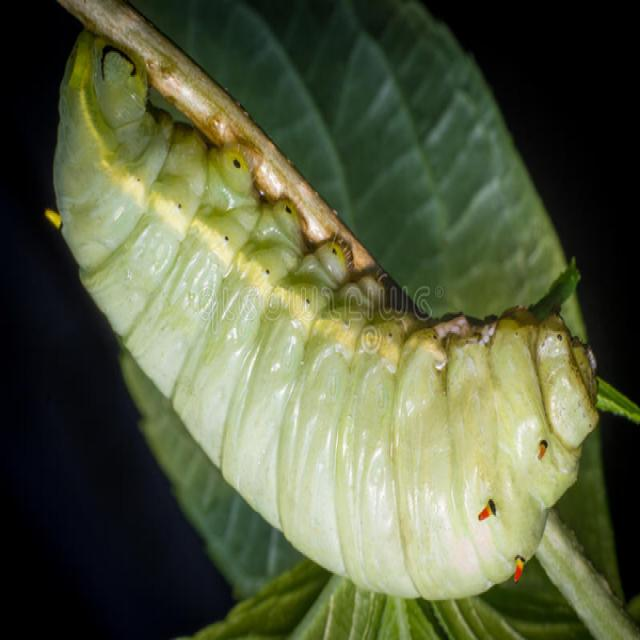caterpillar: (21, 22, 604, 620)
